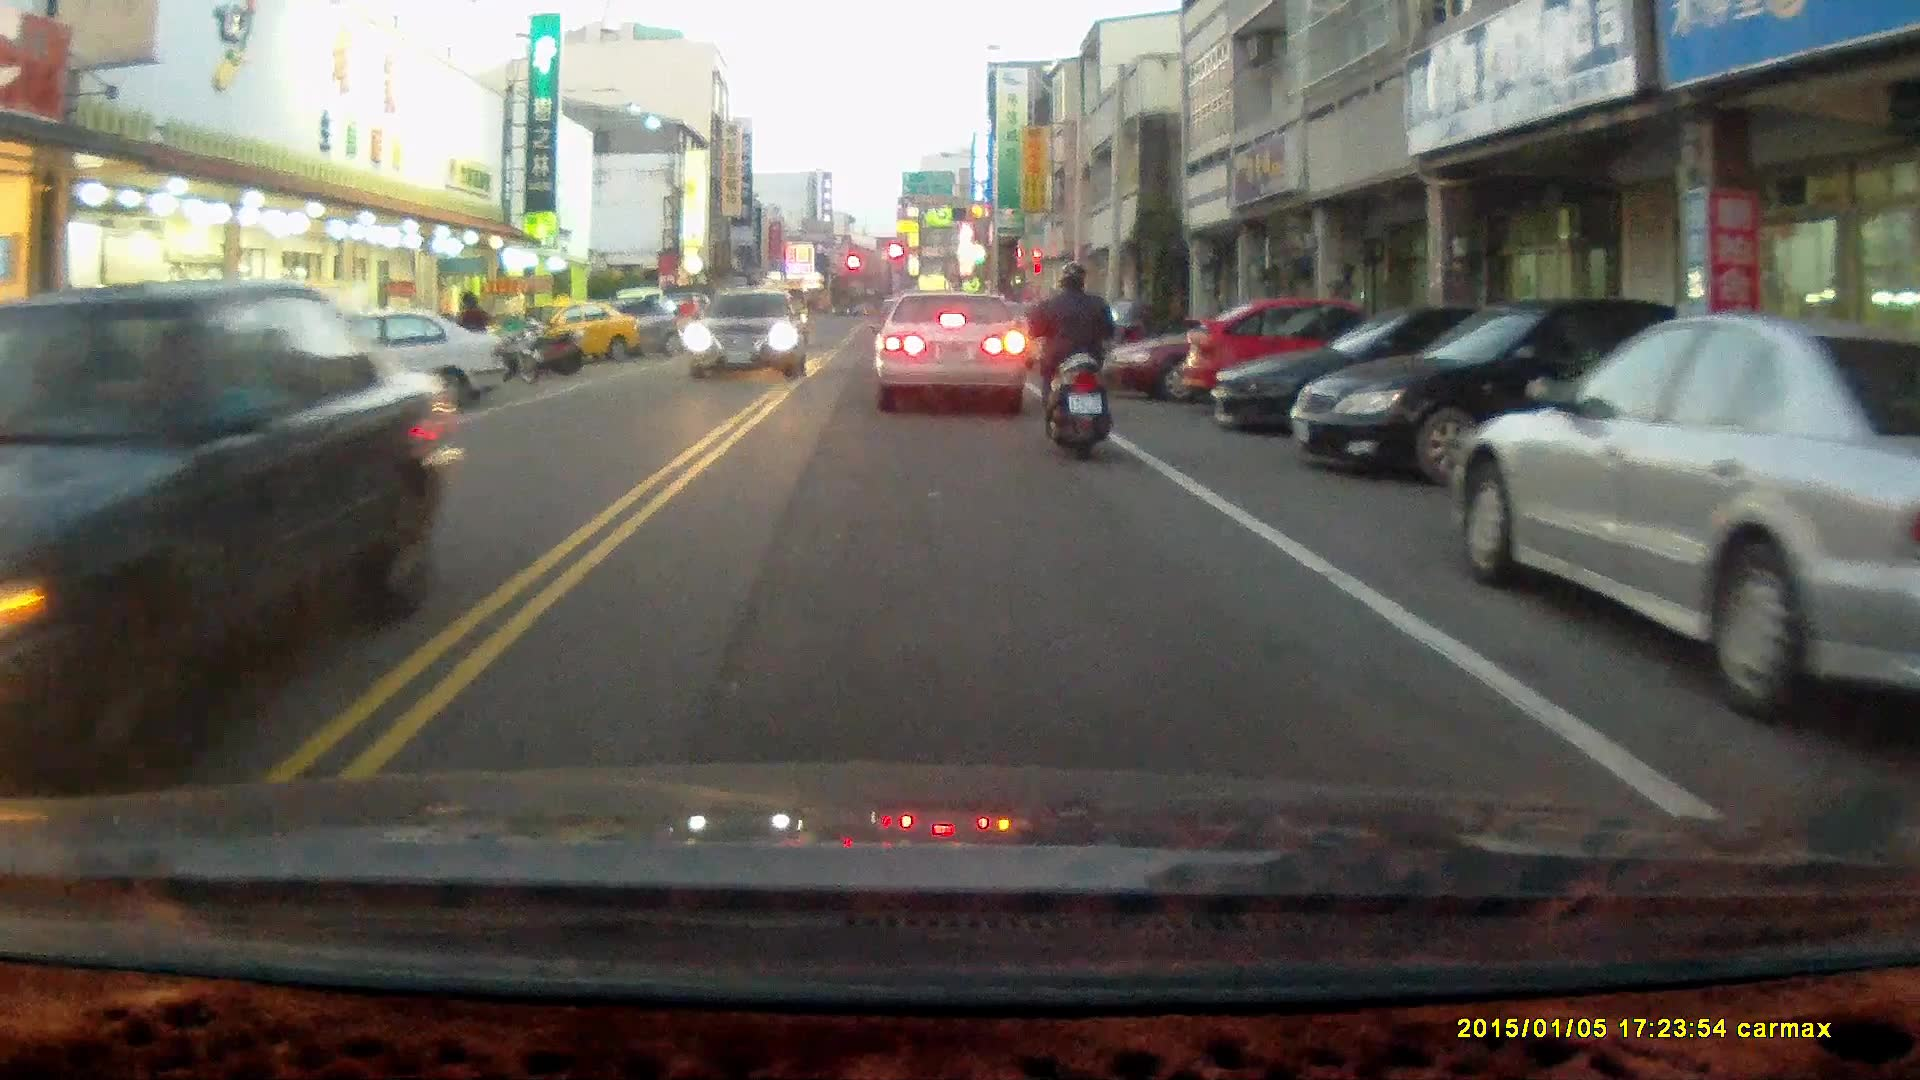pedestrian: (453, 290, 486, 372)
rider: (1026, 256, 1119, 462), (670, 292, 702, 363)
vehicle: (1, 278, 461, 781), (1453, 315, 1920, 732), (1288, 297, 1681, 489), (1208, 308, 1590, 449), (248, 304, 501, 423), (1101, 305, 1396, 402), (1177, 302, 1416, 422), (871, 289, 1026, 415), (687, 288, 808, 386), (520, 293, 643, 366)
